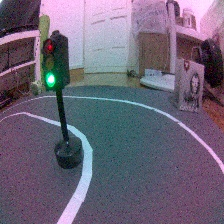green: (40, 29, 87, 169)
